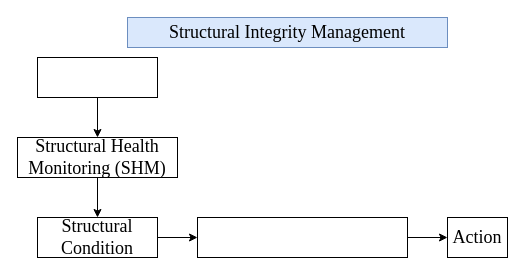
The diagram is 525 pixels wide and 276 high, and some of its shapes have lost their labels. Each missing label, with the centre of its shape:
Decision Making (Inspection & Maintenance): point 302,237
Structural State: point 97,77
